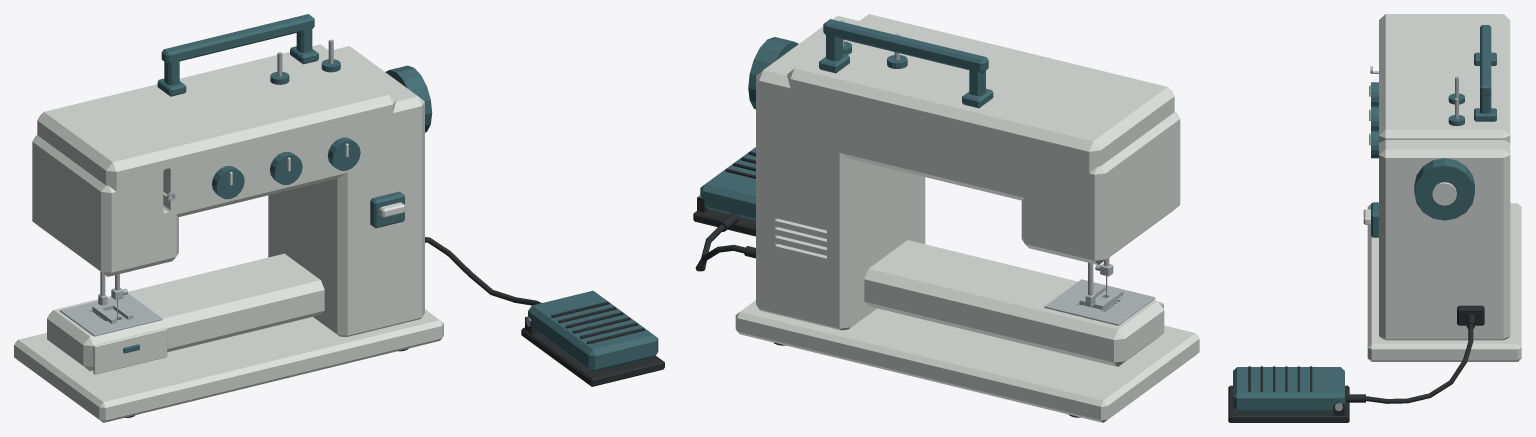
The picture shows the model from 3 angles, left to right: view 1: azimuth 30°, elevation 25°; view 2: azimuth 150°, elevation 25°; view 3: azimuth 270°, elevation 25°; orthographic projection. The views are drawn at different scales.
Visible parts, largest first — view 1: Enclosed electric chassis, Controller tread, Lift handle, Closed bobbin hatch, Controller sole, Needle plate, Handwheel, Connected controller cable, Control dial, Control dial.002, Control dial.001, Reverse control seat; view 2: Enclosed electric chassis, Lift handle, Controller tread, Needle plate, Handwheel, Controller sole, Connected controller cable; view 3: Enclosed electric chassis, Controller tread, Handwheel, Controller sole, Lift handle, Connected controller cable, Electrical socket, Handwheel hub cap, Reverse control seat.
Boxes of the visible parts, <box> form: Enclosed electric chassis: <box>14,44,443,422</box>; Controller tread: <box>528,290,658,372</box>; Lift handle: <box>161,14,314,85</box>; Closed bobbin hatch: <box>93,328,167,374</box>; Controller sole: <box>521,327,664,386</box>; Needle plate: <box>60,293,162,336</box>; Handwheel: <box>385,65,432,132</box>; Connected controller cable: <box>425,237,541,305</box>; Control dial: <box>212,166,244,199</box>; Control dial.002: <box>327,137,360,170</box>; Control dial.001: <box>270,151,302,184</box>; Reverse control seat: <box>370,191,404,228</box>; Enclosed electric chassis: <box>735,14,1199,422</box>; Lift handle: <box>823,19,988,95</box>; Controller tread: <box>700,147,755,220</box>; Needle plate: <box>1044,279,1155,325</box>; Handwheel: <box>748,37,798,109</box>; Controller sole: <box>693,209,755,236</box>; Connected controller cable: <box>695,224,745,271</box>; Enclosed electric chassis: <box>1367,14,1521,361</box>; Controller tread: <box>1233,367,1344,411</box>; Handwheel: <box>1414,158,1474,220</box>; Controller sole: <box>1228,385,1349,422</box>; Lift handle: <box>1480,25,1491,113</box>; Connected controller cable: <box>1366,324,1473,403</box>; Electrical socket: <box>1457,305,1484,325</box>; Handwheel hub cap: <box>1432,182,1456,205</box>; Reverse control seat: <box>1371,202,1378,237</box>.
Size of the model in its own units: 0.583 by 0.343 by 0.358.
